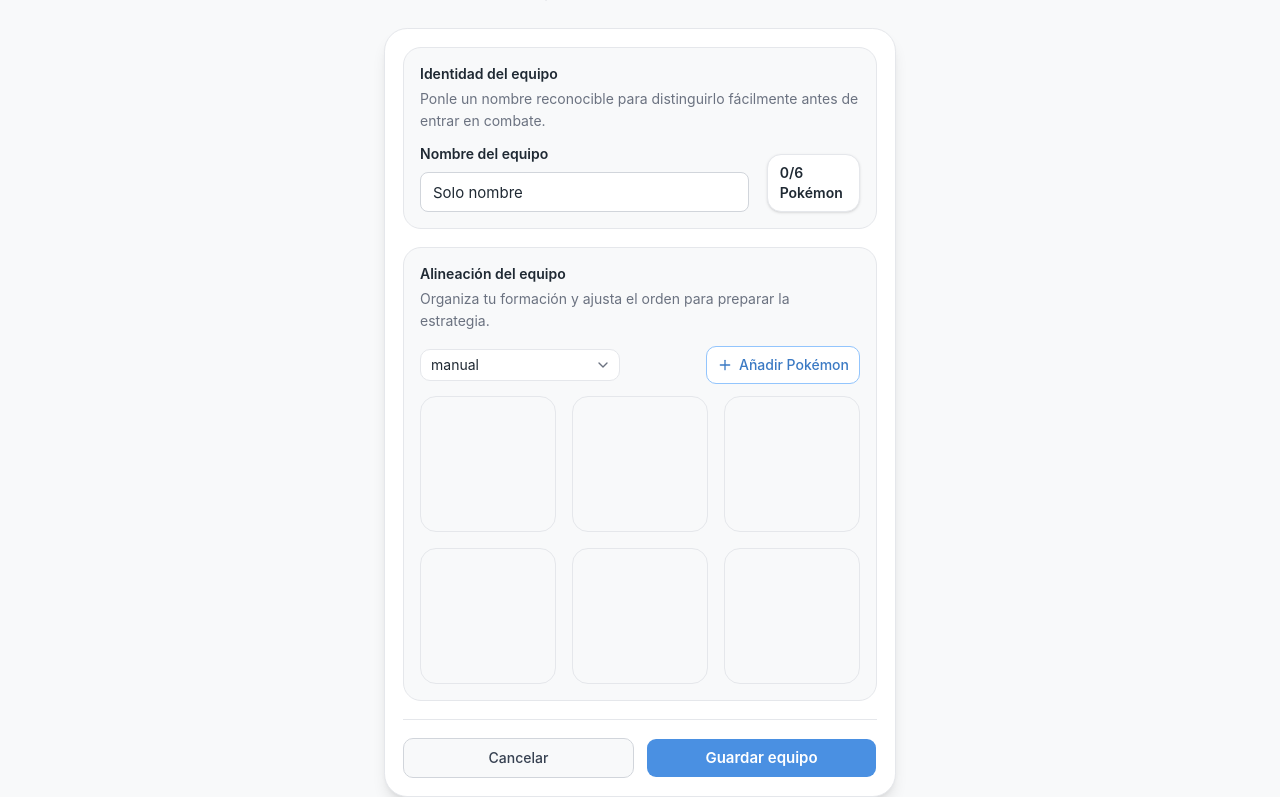
Scenario: TeamBuilderPage › cancelar creación › debería deshabilitar 'Guardar y salir' si el draft no es guardable
The image size is (1280, 797).
(page scrolled)
Click the button "Cancelar" at (518, 758), box [403,738,634,778]
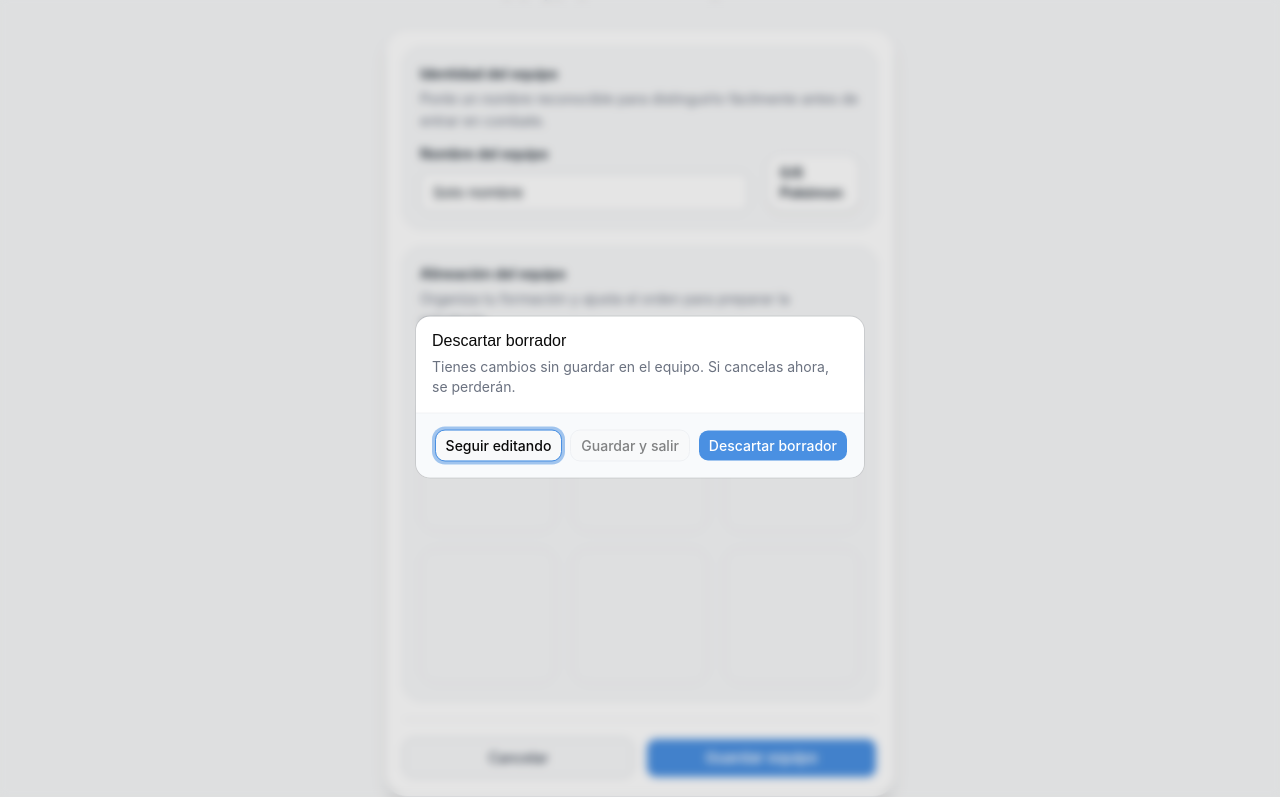
Now the button "Guardar y salir" is disabled, box [570,430,690,462]
